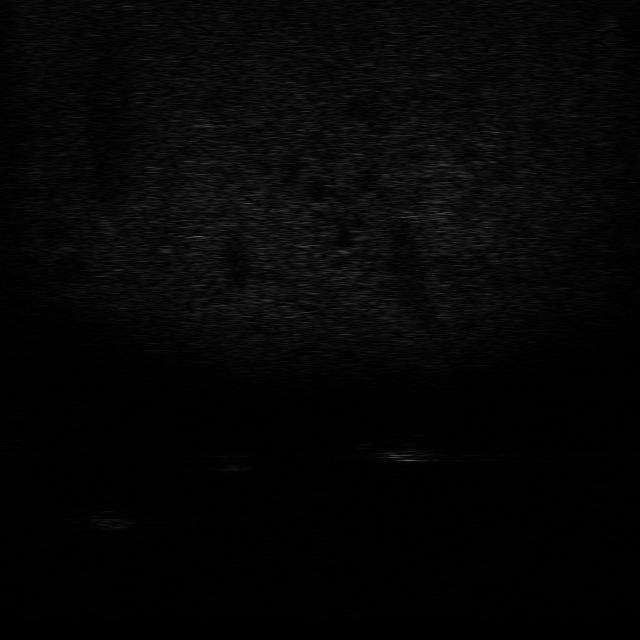ball: (210, 452, 258, 474)
circle cage: (57, 504, 136, 532)
human body: (340, 438, 445, 465)
